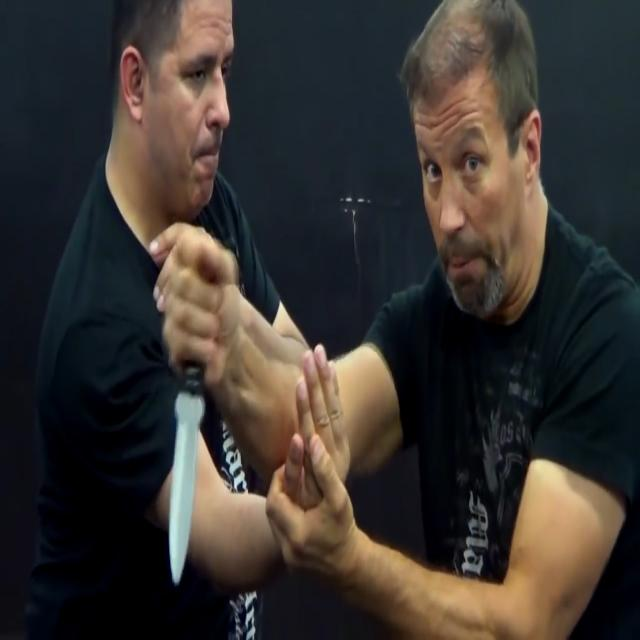knife: (165, 374, 207, 599)
